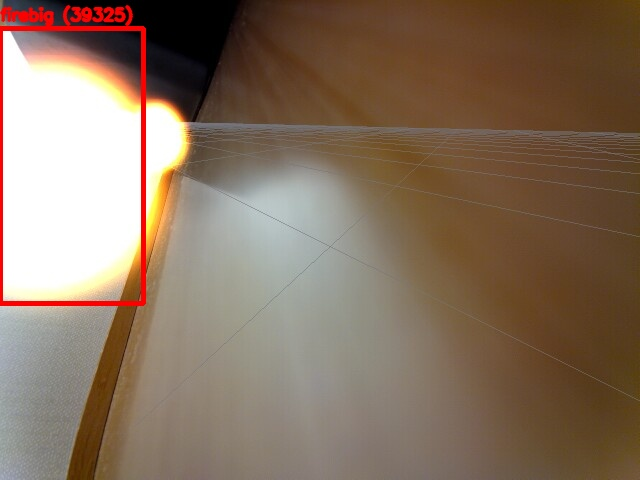firebig: (0, 28, 143, 303)
